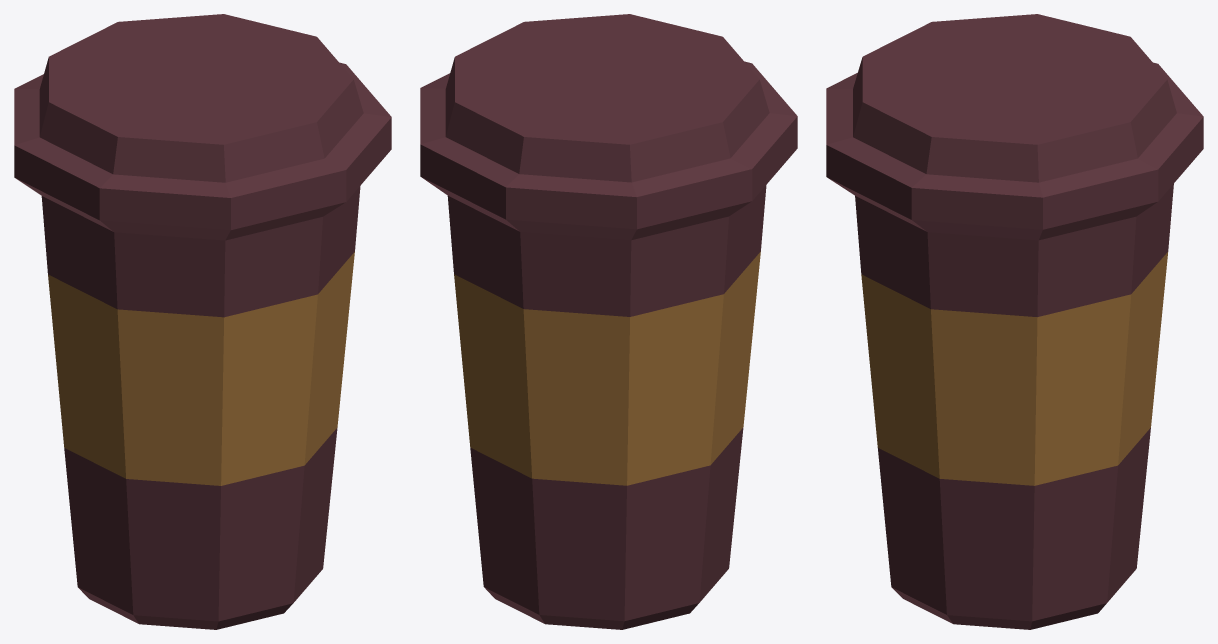
File: coffee-cup-paper.fbx
3 views of the same model, side by side, from view 1: azimuth 30°, elevation 25°; view 2: azimuth 150°, elevation 25°; view 3: azimuth 270°, elevation 25° (orthographic).
Parts seen in each view (by area): view 1: coffee-cup-paper; view 2: coffee-cup-paper; view 3: coffee-cup-paper.
Boxes of the visible parts, box(x1,y1,x2,y2) form: coffee-cup-paper: box(14, 14, 391, 629); coffee-cup-paper: box(420, 14, 797, 629); coffee-cup-paper: box(826, 14, 1203, 629).
Size of the model in its own units: 0.1045 by 0.1513 by 0.1029.
